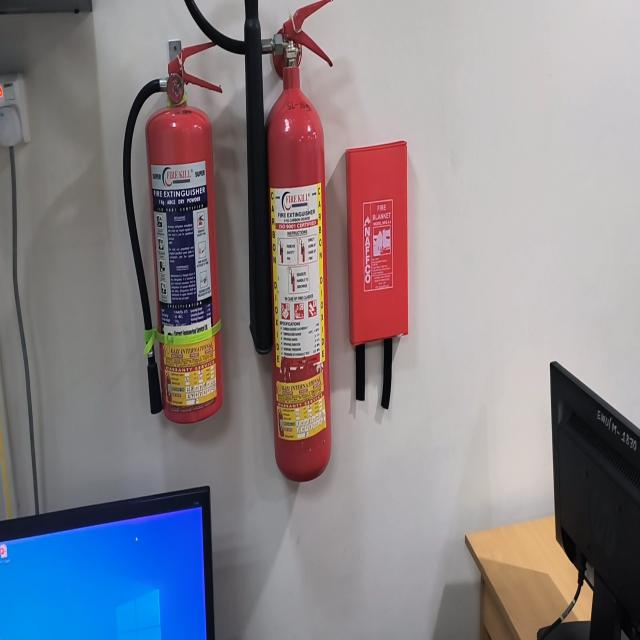Fire Extinguisher: (267, 0, 331, 481), (145, 41, 223, 424)
Monitor: (0, 487, 214, 639), (550, 361, 640, 639)
